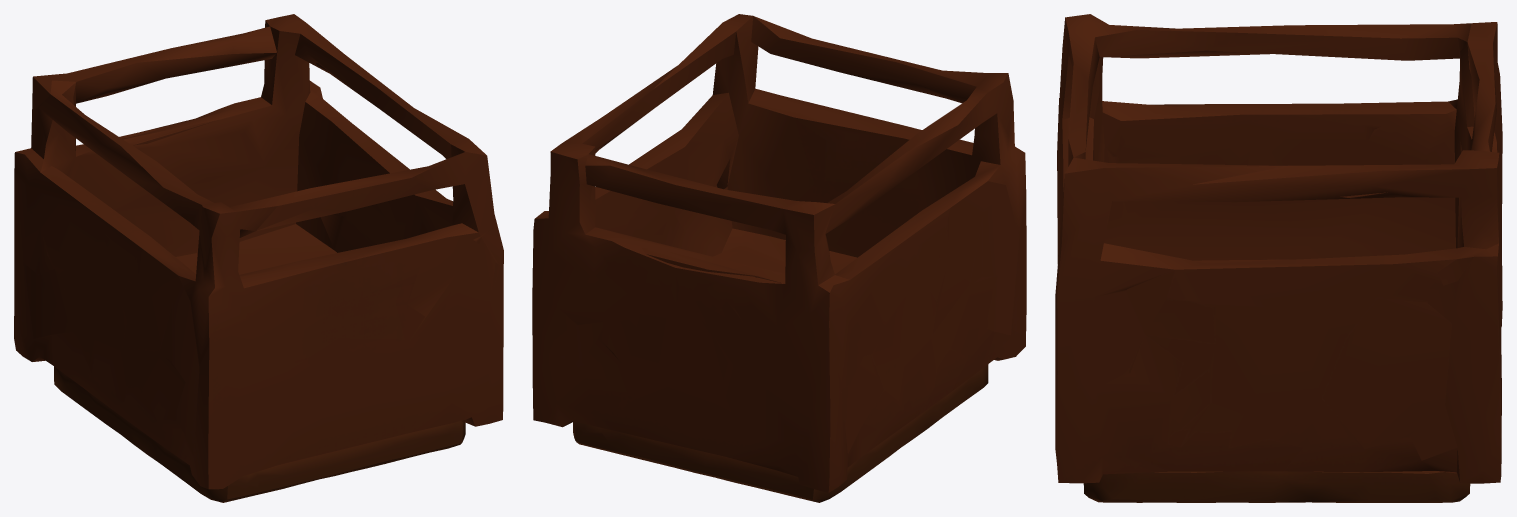
File: PROP_01.glb
3 views of the same model, side by side, from view 1: azimuth 30°, elevation 25°; view 2: azimuth 150°, elevation 25°; view 3: azimuth 270°, elevation 25° (orthographic). The views are drawn at different scales.
Visible parts, largest first — view 1: world; view 2: world; view 3: world.
Boxes of the visible parts, x1,y1,x2,y2 form: world: [14, 14, 503, 502]; world: [532, 14, 1026, 502]; world: [1055, 14, 1502, 502].
Size of the model in its own units: 0.5482 by 0.5371 by 0.6278.
Materials: 1 (1 with a texture image).
